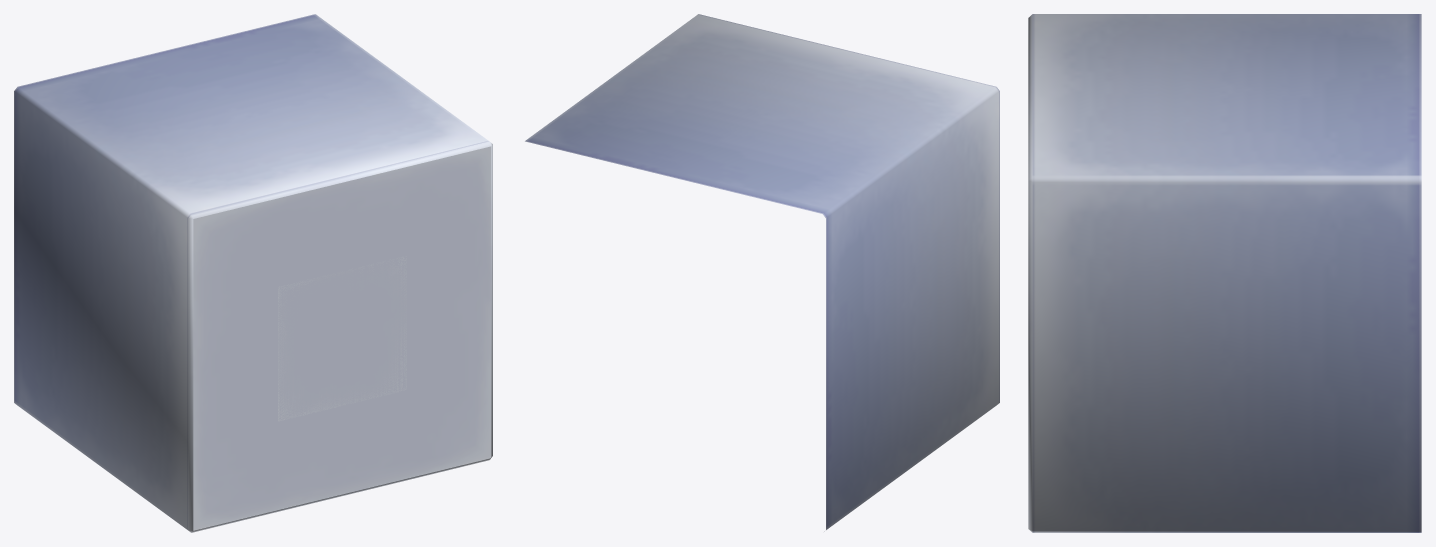
Rendered from steps_set.glb.
The picture shows the model from 3 angles, left to right: view 1: azimuth 30°, elevation 25°; view 2: azimuth 150°, elevation 25°; view 3: azimuth 270°, elevation 25°; orthographic projection. The views are drawn at different scales.
Visible parts, largest first — view 1: rsrc.world.tileset.whitespace.steps_set-Variant[stepping_blo (×2); view 2: rsrc.world.tileset.whitespace.steps_set-Variant[stepping_blo; view 3: rsrc.world.tileset.whitespace.steps_set-Variant[stepping_blo.
Boxes of the visible parts, left/top/right/bottom form: rsrc.world.tileset.whitespace.steps_set-Variant[stepping_blo (×2): left=14, top=14, right=492, bottom=532; rsrc.world.tileset.whitespace.steps_set-Variant[stepping_blo: left=525, top=14, right=999, bottom=531; rsrc.world.tileset.whitespace.steps_set-Variant[stepping_blo: left=1028, top=14, right=1421, bottom=532.
Size of the model in its own units: 0.9 by 0.9 by 0.9.
1 material, 1 textured.
